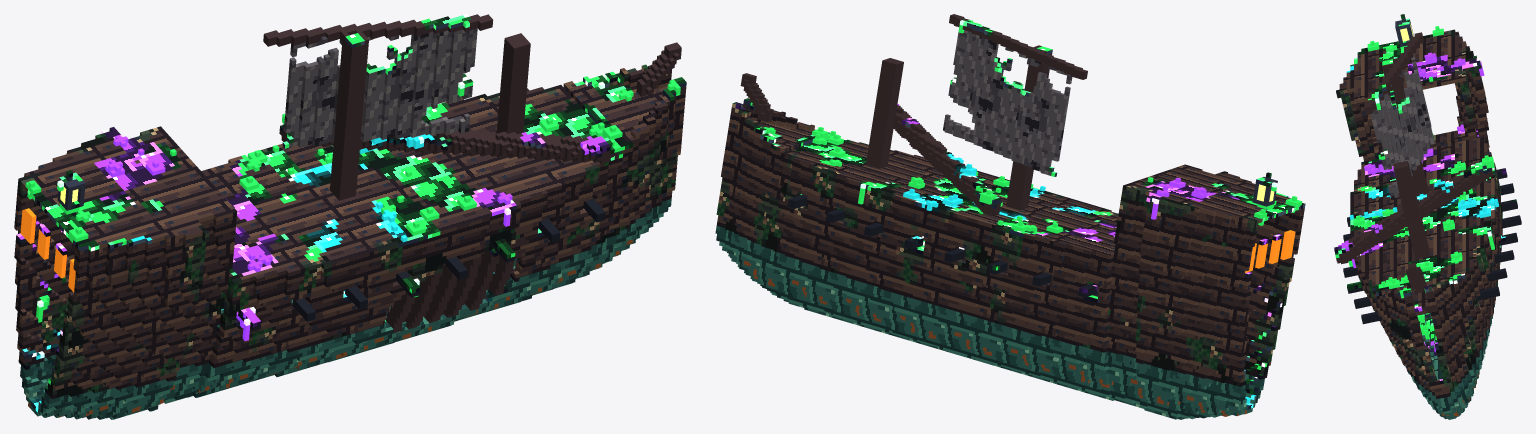
Rendered from galleon.glb.
The picture shows the model from 3 angles, left to right: view 1: azimuth 30°, elevation 25°; view 2: azimuth 150°, elevation 25°; view 3: azimuth 270°, elevation 25°; orthographic projection. The views are drawn at different scales.
Visible parts, largest first — view 1: hull; view 2: hull; view 3: hull.
Boxes of the visible parts, x1,y1,x2,y2 form: hull: [14, 14, 686, 419]; hull: [715, 14, 1305, 419]; hull: [1334, 14, 1521, 419].
Bounding box in the file's own units: 9.65 × 5.22 × 3.17.
Materials: 12 (12 with a texture image).
